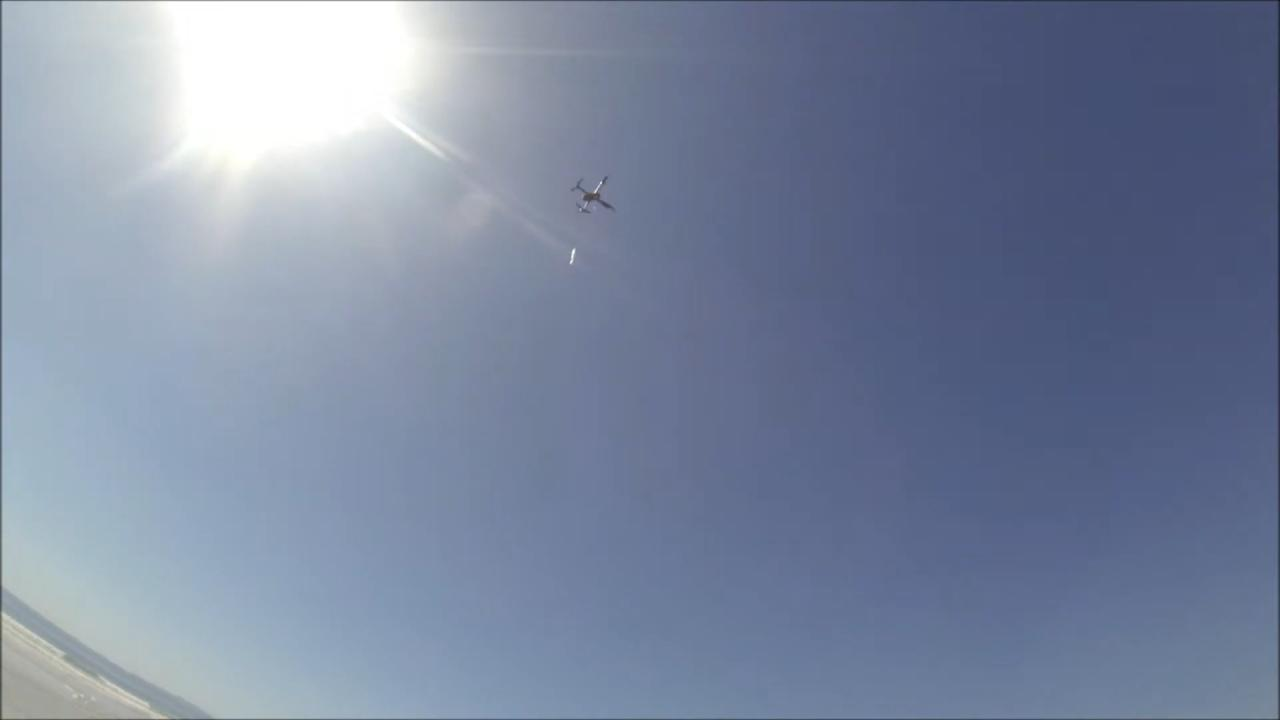Drone: (563, 170, 622, 221)
